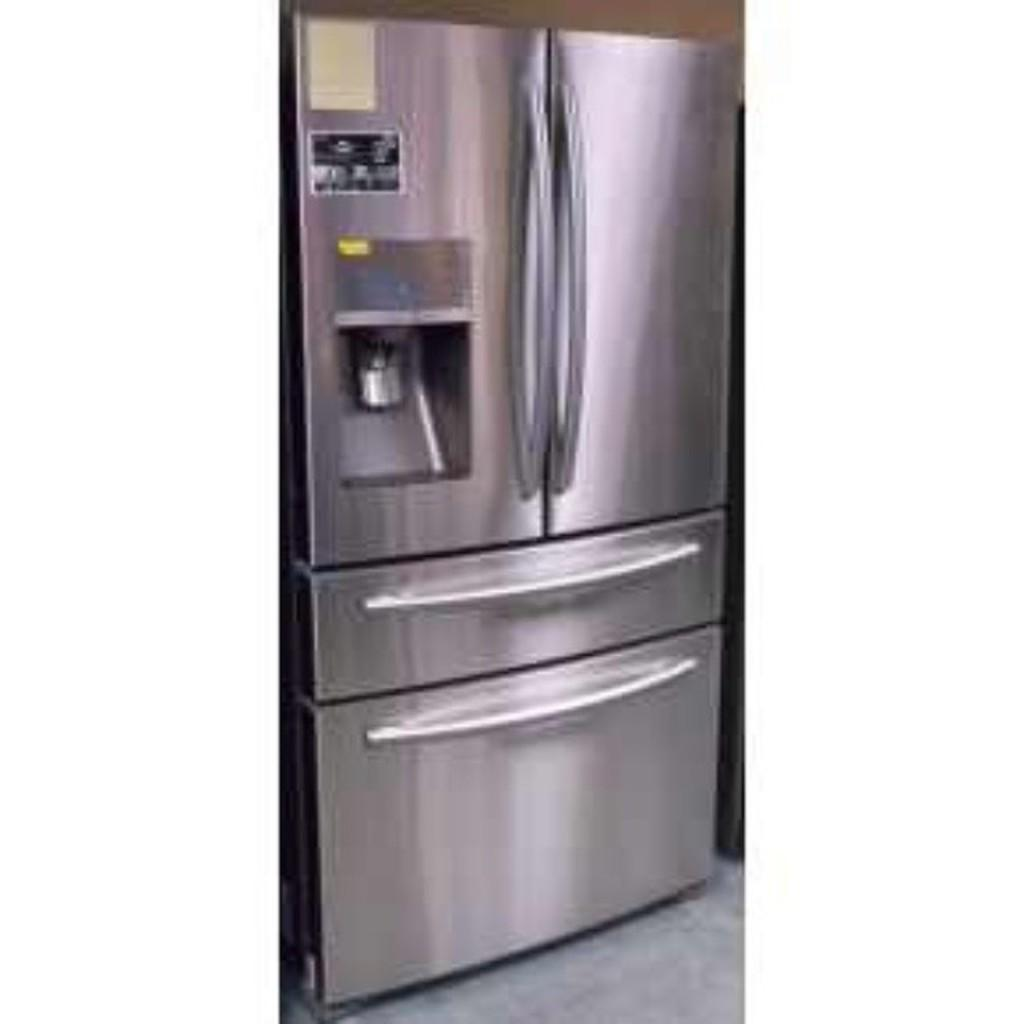handle: (364, 667, 706, 735), (365, 543, 703, 610), (516, 108, 569, 482), (552, 84, 598, 459)
